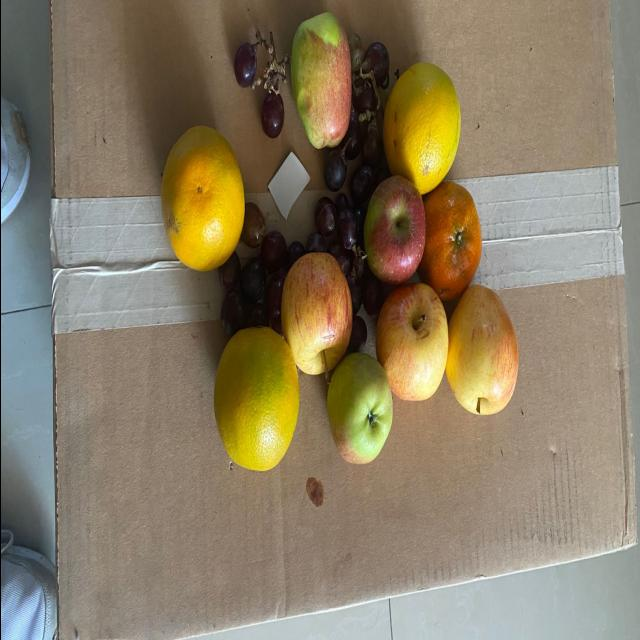hoja: (264, 154, 308, 217)
